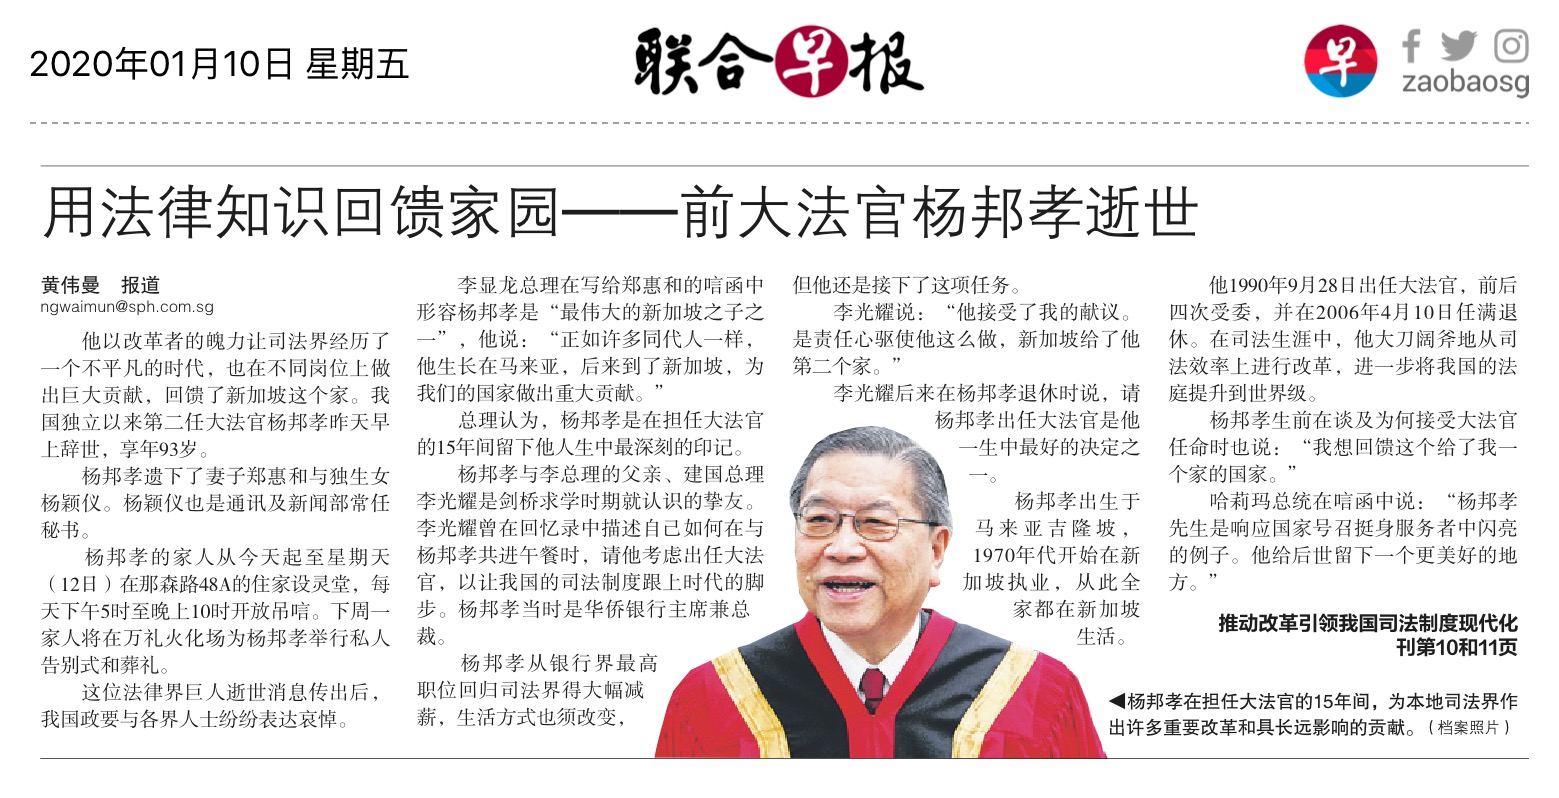heading: (32, 170, 1211, 244)
